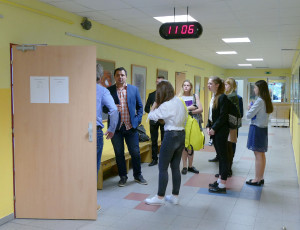students: (102, 67, 148, 187), (144, 80, 188, 205), (207, 76, 243, 193), (96, 62, 119, 211), (245, 79, 273, 186), (178, 81, 203, 174), (223, 78, 243, 179), (144, 76, 165, 166)
